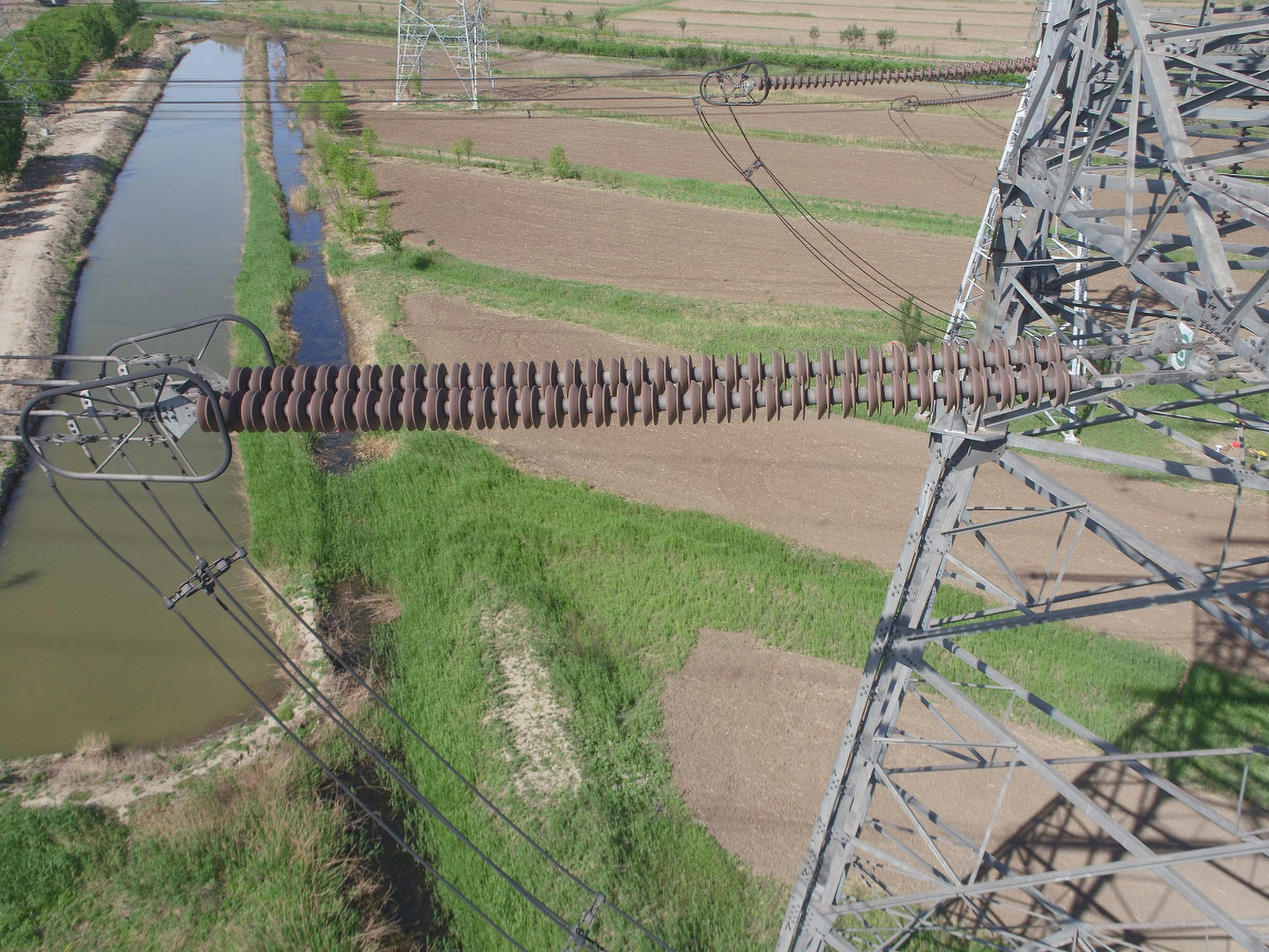insulator: (191, 329, 1078, 440), (755, 54, 1040, 94), (914, 88, 1016, 110)
